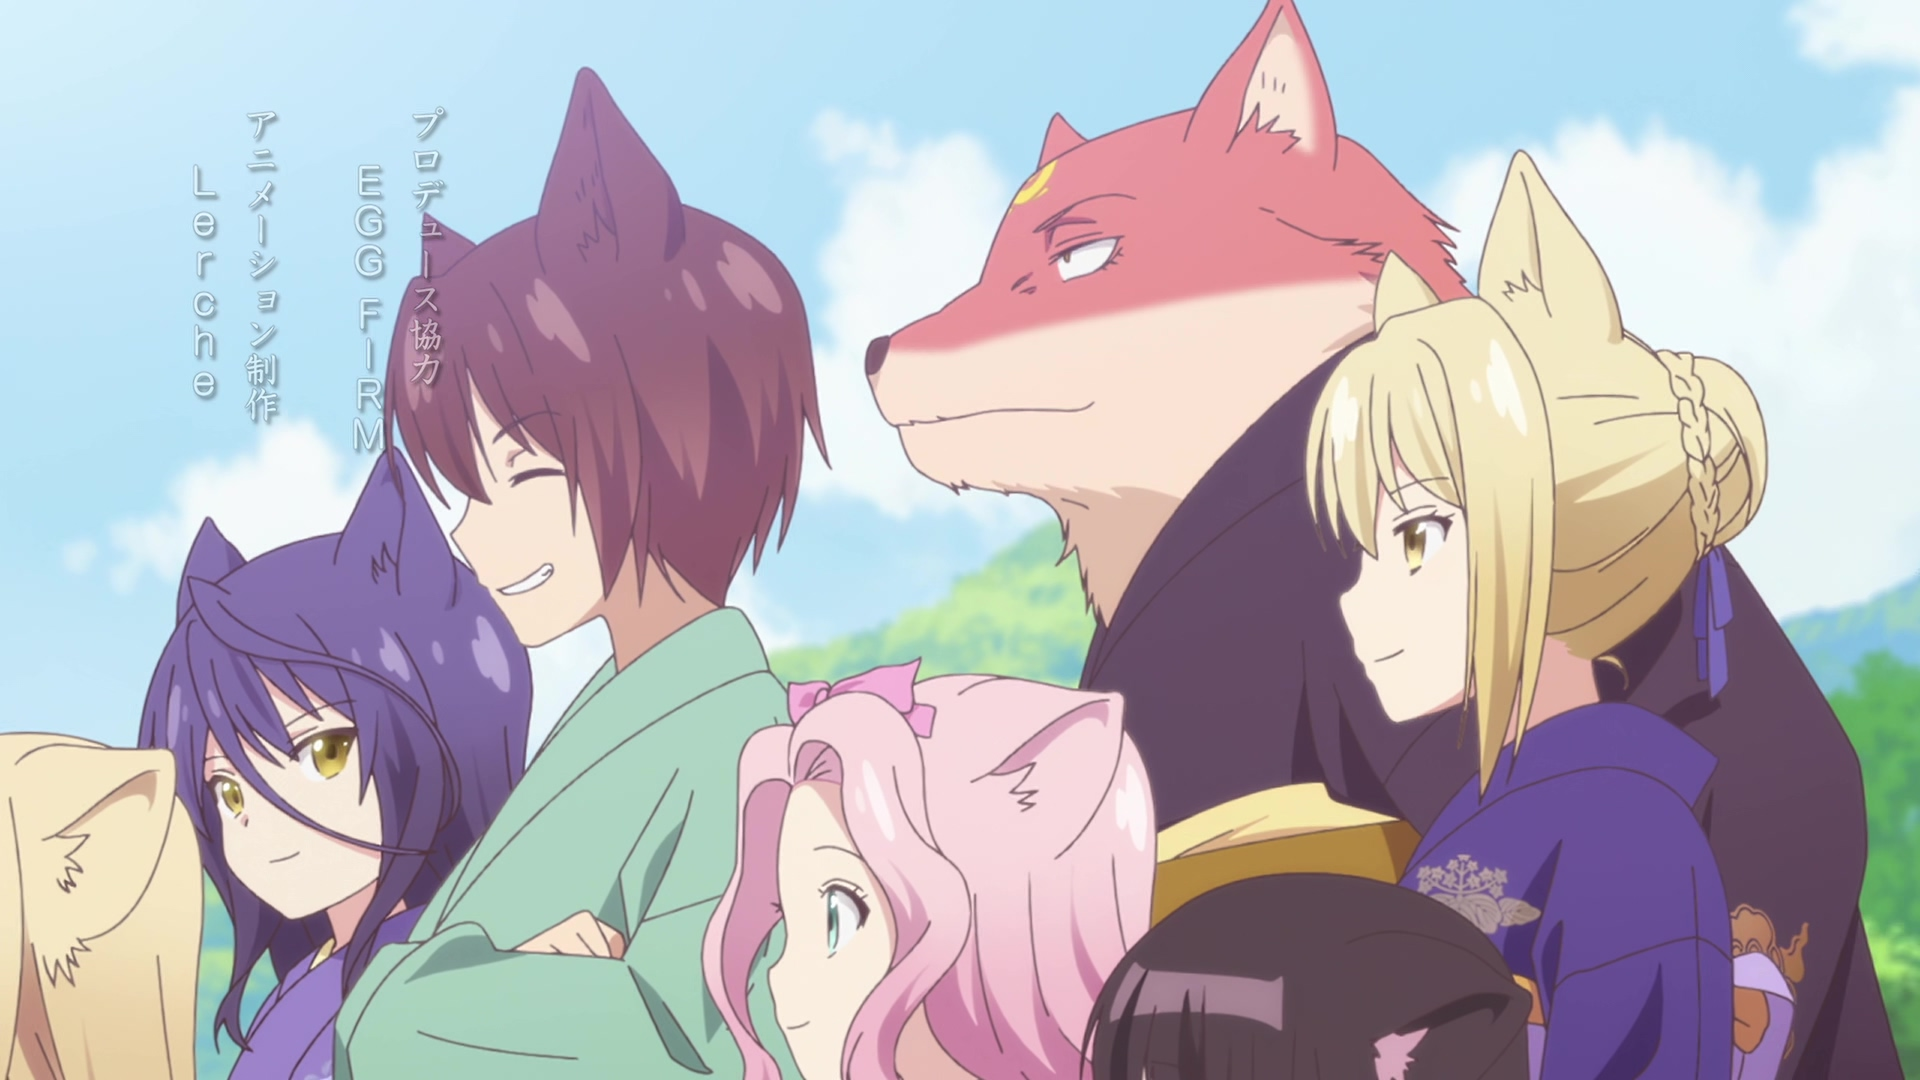枣: (338, 67, 833, 1080)
柚: (1, 731, 203, 1080)
桐: (1307, 148, 1795, 1080)
椿: (862, 1, 1905, 1080)
樱: (1080, 872, 1535, 1080)
皋: (135, 443, 537, 1080)
莲: (702, 655, 1155, 1080)
